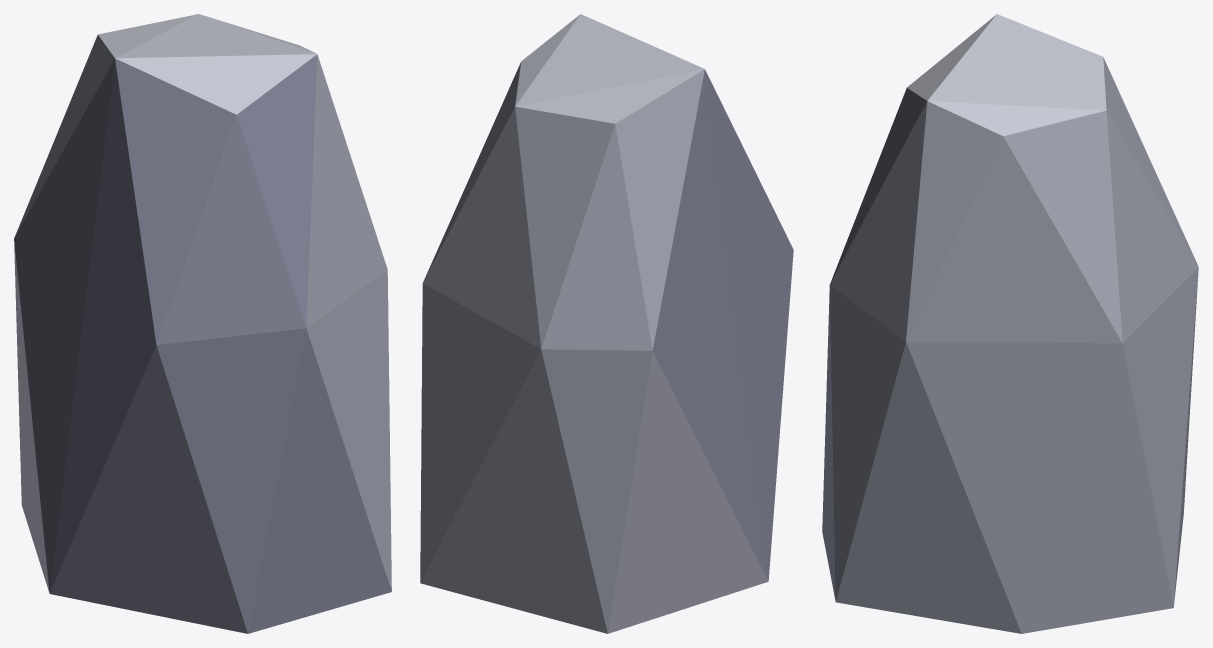
Rendered from stone_tallJ.glb.
The picture shows the model from 3 angles, left to right: view 1: azimuth 30°, elevation 25°; view 2: azimuth 150°, elevation 25°; view 3: azimuth 270°, elevation 25°; orthographic projection. The views are drawn at different scales.
Parts seen in each view (by area): view 1: stone_tallJ; view 2: stone_tallJ; view 3: stone_tallJ.
Boxes of the visible parts, bbox=[...] form: stone_tallJ: bbox=[14, 14, 391, 633]; stone_tallJ: bbox=[420, 14, 793, 633]; stone_tallJ: bbox=[822, 14, 1198, 633].
Bounding box in the file's own units: 0.4047 × 0.6154 × 0.4216.
Materials: 1 (1 with a texture image).
